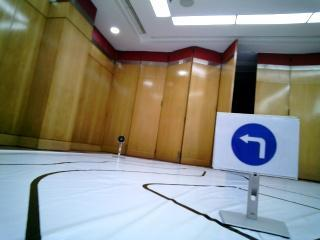left: (223, 116, 279, 170)
